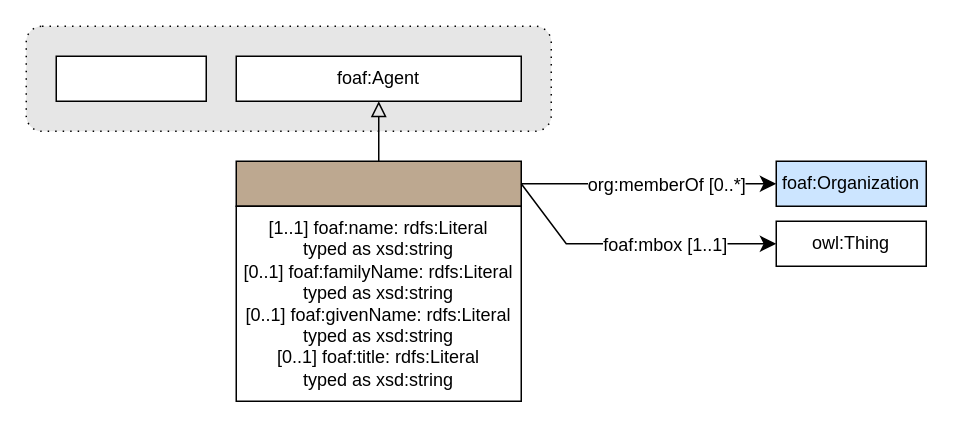
Some shapes in this 953 by 428 pixel diagram are drawn without their labels. The centre of each missing label's shape, as x and y in pixels:
"foaf:Person" goes at (x=378, y=183).
"prov:Agent" goes at (x=130, y=78).
